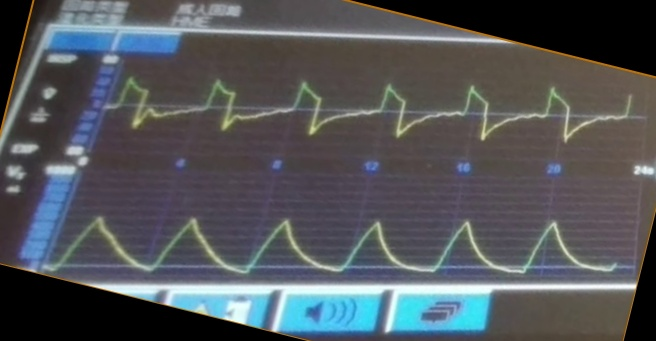Premature_cycling Flow: (111, 74, 636, 154)
Premature_cycling Volume: (62, 209, 617, 277)
